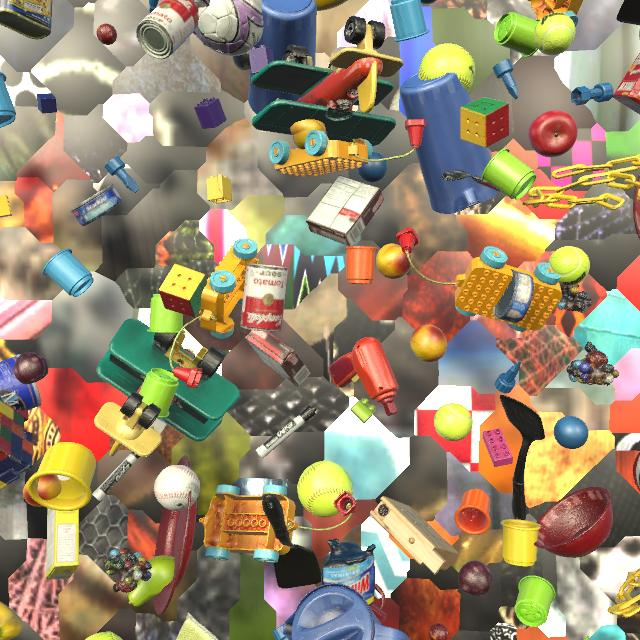ycb_002_master_chef_can: (0, 354, 42, 411)
ycb_003_cracker_box: (612, 53, 640, 115)
ycb_004_sugar_box: (46, 475, 79, 579)
ycb_005_tomato_soup_can: (136, 0, 199, 59), (240, 263, 288, 332)
ycb_007_tuna_fish_can: (70, 184, 123, 226), (493, 269, 534, 323)
ycb_008_pudding_box: (306, 175, 384, 246), (245, 330, 311, 387)
ycb_010_potted_meat_can: (0, 0, 52, 39)
ycb_011_banana: (0, 602, 23, 640), (314, 0, 348, 11)
ycb_013_apple: (528, 110, 578, 158)
ycb_015_peach: (410, 325, 447, 362), (23, 472, 62, 507), (376, 243, 412, 279), (291, 119, 326, 149), (639, 30, 640, 39)
ycb_016_pear: (128, 555, 175, 607)
ycb_018_plum: (458, 561, 493, 596), (14, 352, 48, 385)
